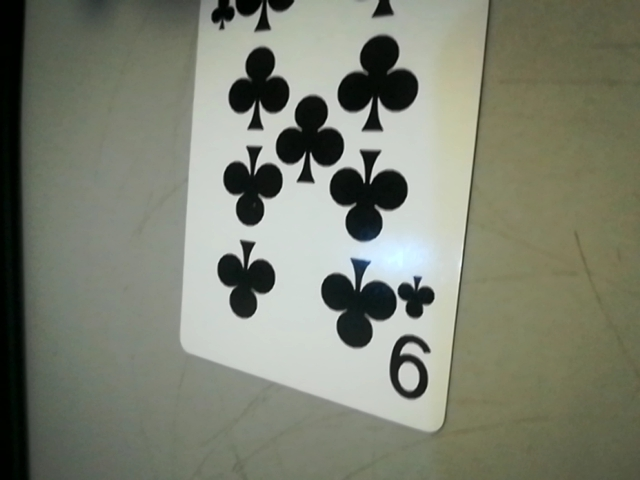mh 9: (383, 271, 444, 414)
